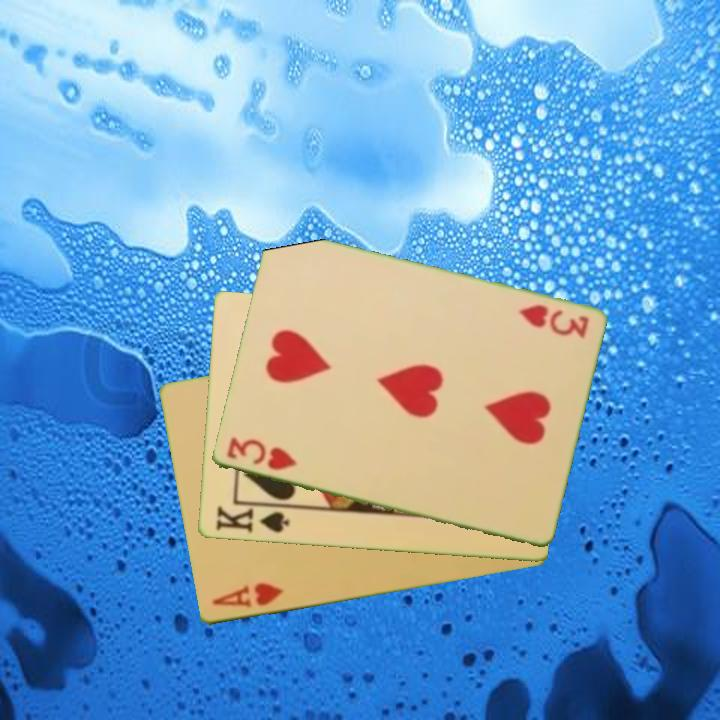3h: (223, 434, 300, 474), (515, 301, 592, 341)
Ah: (208, 579, 286, 611)
Ks: (212, 501, 292, 536)
